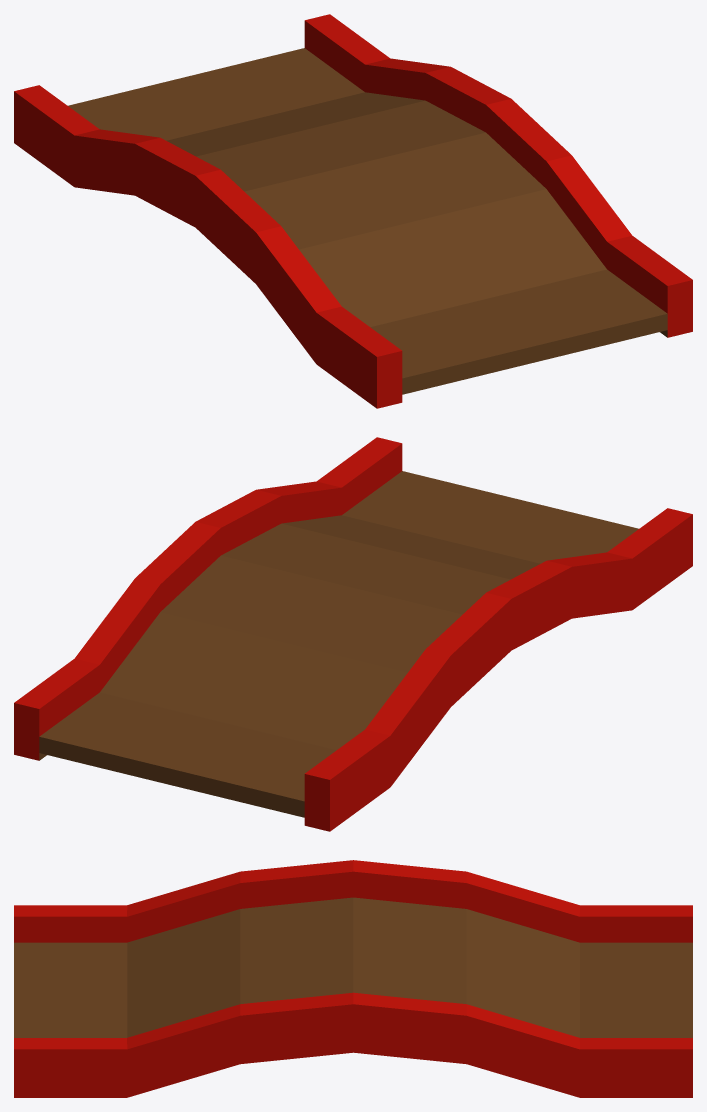
Rendered from pont.fbx.
3 views of the same model, one above another, from view 1: azimuth 30°, elevation 25°; view 2: azimuth 150°, elevation 25°; view 3: azimuth 270°, elevation 25° (orthographic). The views are drawn at different scales.
Visible parts, largest first — view 1: Pont; view 2: Pont; view 3: Pont.
Part boxes in pixels (x1,y1,x2,y2): Pont: (14, 14, 692, 408); Pont: (14, 437, 692, 831); Pont: (14, 860, 692, 1097).
Size of the model in its own units: 532 by 161 by 1059.
1 material, 1 textured.
